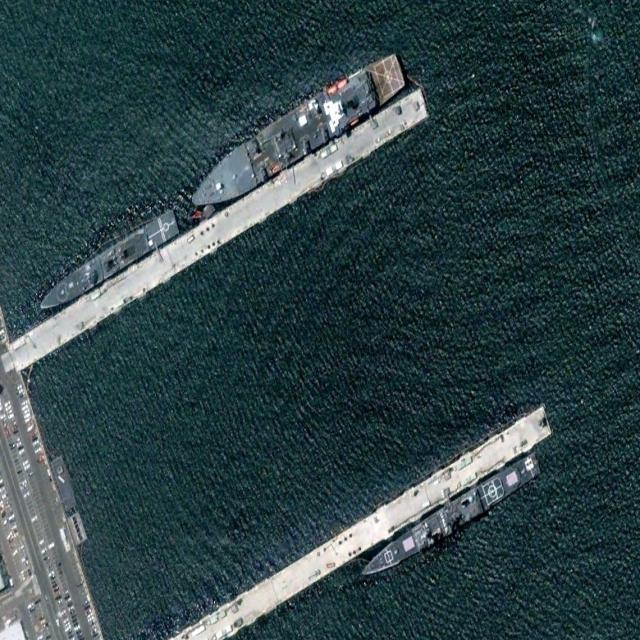Commander: (184, 46, 407, 221)
Cruiser: (357, 448, 543, 588)
Other Ship: (36, 206, 180, 319)
